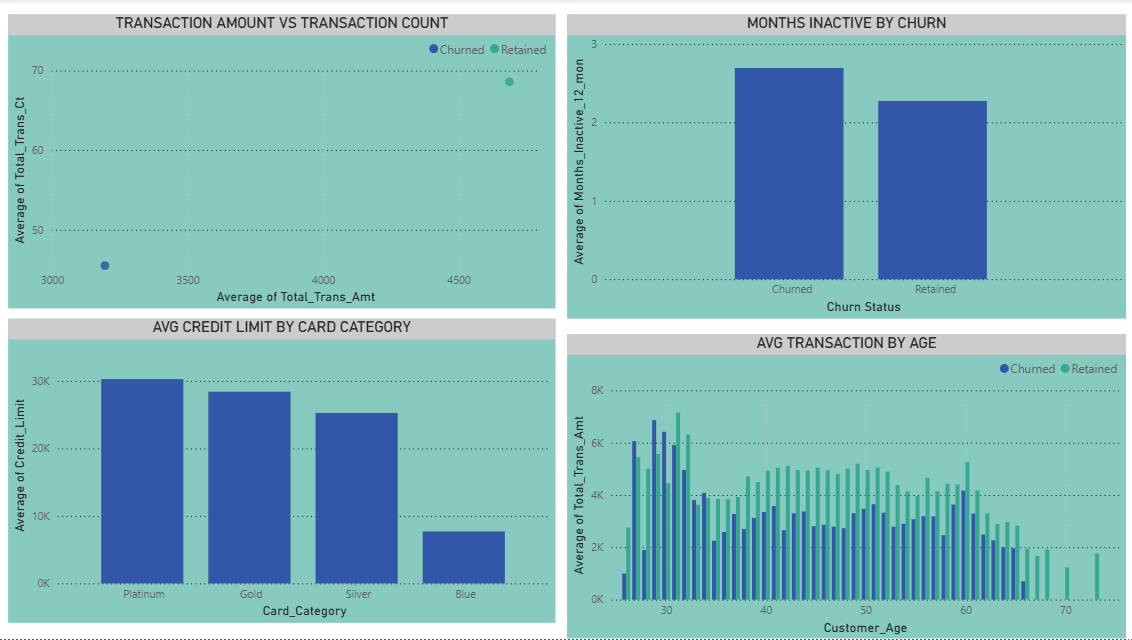

What the dashboard file says about the page in this screenshot:
{"tool":"powerbi","page":{"name":"Risk Indicators","canvas":[1280,720],"ordinal":2},"visuals":[{"type":"scatterChart","title":"TRANSACTION AMOUNT VS TRANSACTION COUNT","fields":{"X":["Avg(BankChurners.Total_Trans_Amt)"],"Y":["Avg(BankChurners.Total_Trans_Ct)"],"Series":["BankChurners.Churn Status"]},"box":[10.2,17.6,616.1,330.7],"z":0},{"type":"clusteredColumnChart","title":"AVG CREDIT LIMIT BY CARD CATEGORY","fields":{"Y":["Avg(BankChurners.Credit_Limit)"],"Category":["BankChurners.Card_Category"]},"box":[10.2,360,616.1,342.5],"z":1000},{"type":"clusteredColumnChart","title":"MONTHS INACTIVE BY CHURN","fields":{"Category":["BankChurners.Churn Status"],"Y":["Avg(BankChurners.Months_Inactive_12_mon)"]},"box":[639.5,17.6,629.3,342.5],"z":2000},{"type":"clusteredColumnChart","title":"AVG TRANSACTION BY AGE","fields":{"Category":["BankChurners.Customer_Age"],"Y":["Avg(BankChurners.Total_Trans_Amt)"],"Series":["BankChurners.Churn Status"]},"box":[639.5,377.6,629.3,342.5],"z":3000}]}

Visuals, with their boxes in screenshot pixels (x1, y1, x2, y2), scaled from the page's 1280x720 canvas onto the 1132x640 screenshot:
"TRANSACTION AMOUNT VS TRANSACTION COUNT" scatterChart: {"left": 9, "top": 16, "right": 554, "bottom": 310}
"AVG CREDIT LIMIT BY CARD CATEGORY" clusteredColumnChart: {"left": 9, "top": 320, "right": 554, "bottom": 624}
"MONTHS INACTIVE BY CHURN" clusteredColumnChart: {"left": 566, "top": 16, "right": 1122, "bottom": 320}
"AVG TRANSACTION BY AGE" clusteredColumnChart: {"left": 566, "top": 336, "right": 1122, "bottom": 639}
